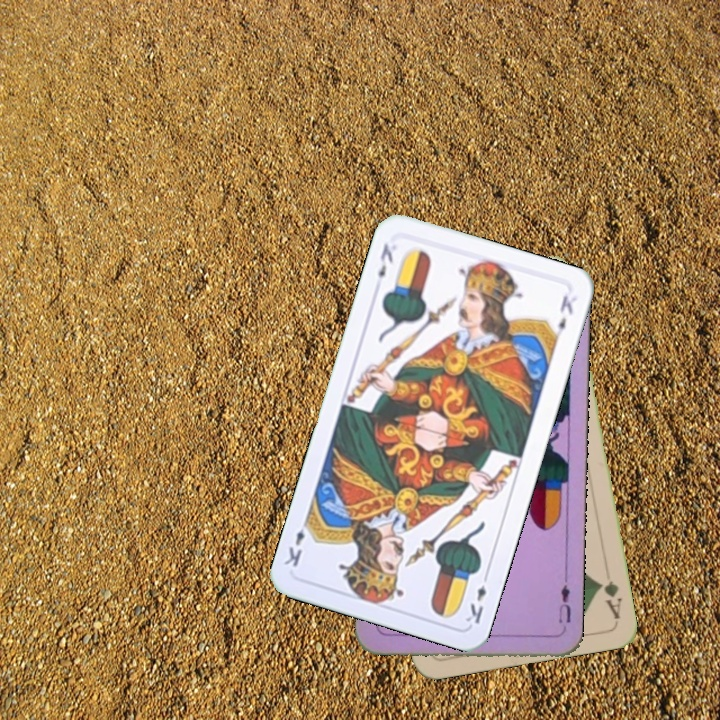EK: (462, 568, 492, 627), (374, 239, 396, 280)
EU: (554, 574, 574, 626)
GA: (594, 576, 625, 622)
